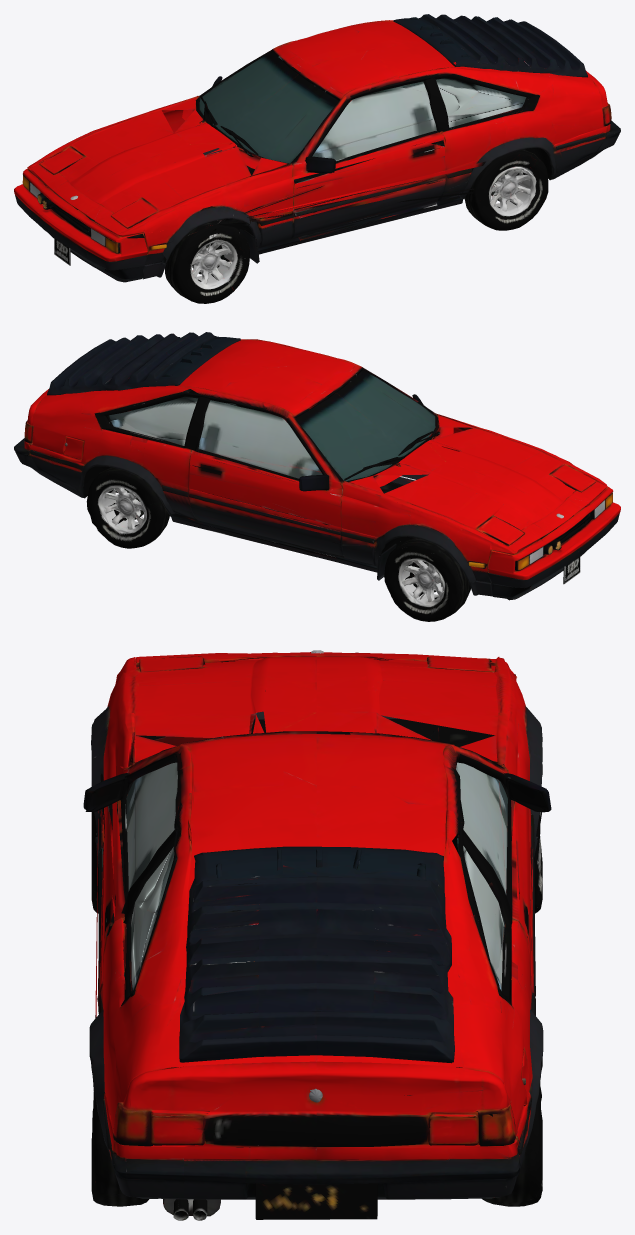
The model's file is toyota_supra_82.glb.
3 views of the same model, one above another, from view 1: azimuth 30°, elevation 25°; view 2: azimuth 150°, elevation 25°; view 3: azimuth 270°, elevation 25° (orthographic). The views are drawn at different scales.
Bounding box in the file's own units: 0.9502 × 0.2827 × 0.3677.
Materials: 1 (1 with a texture image).
